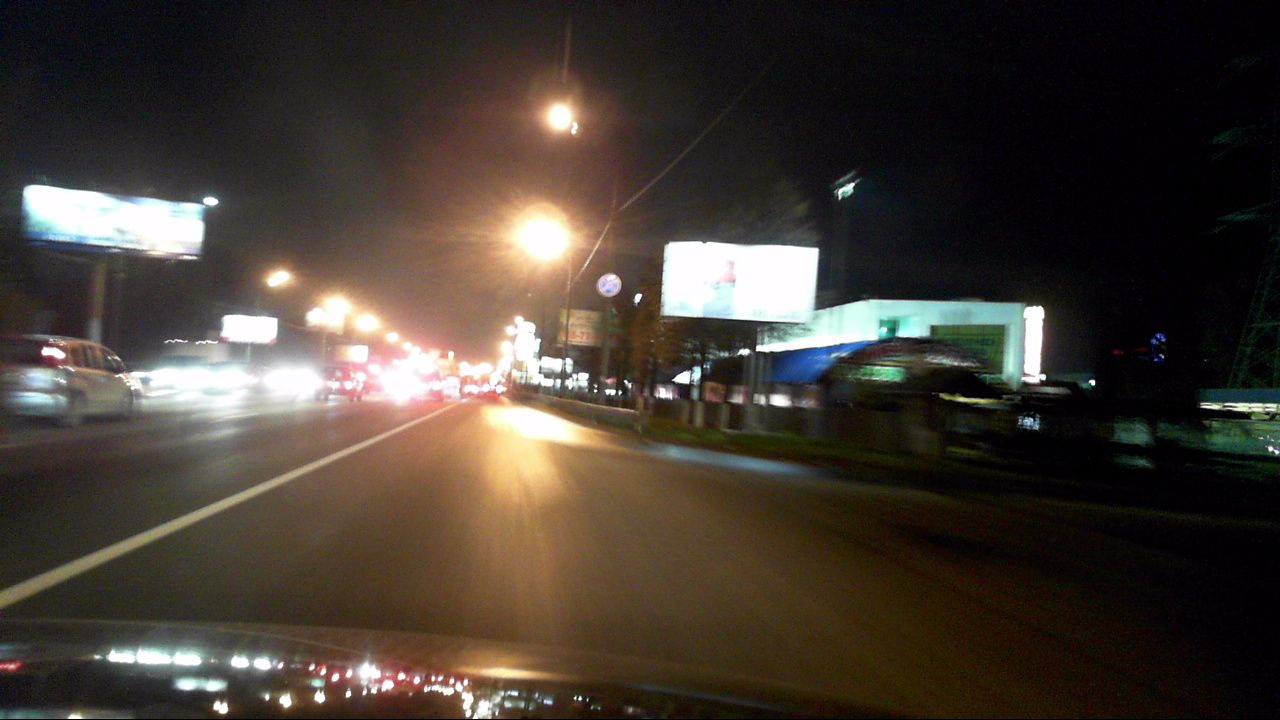No Parking: (597, 274, 621, 298)
